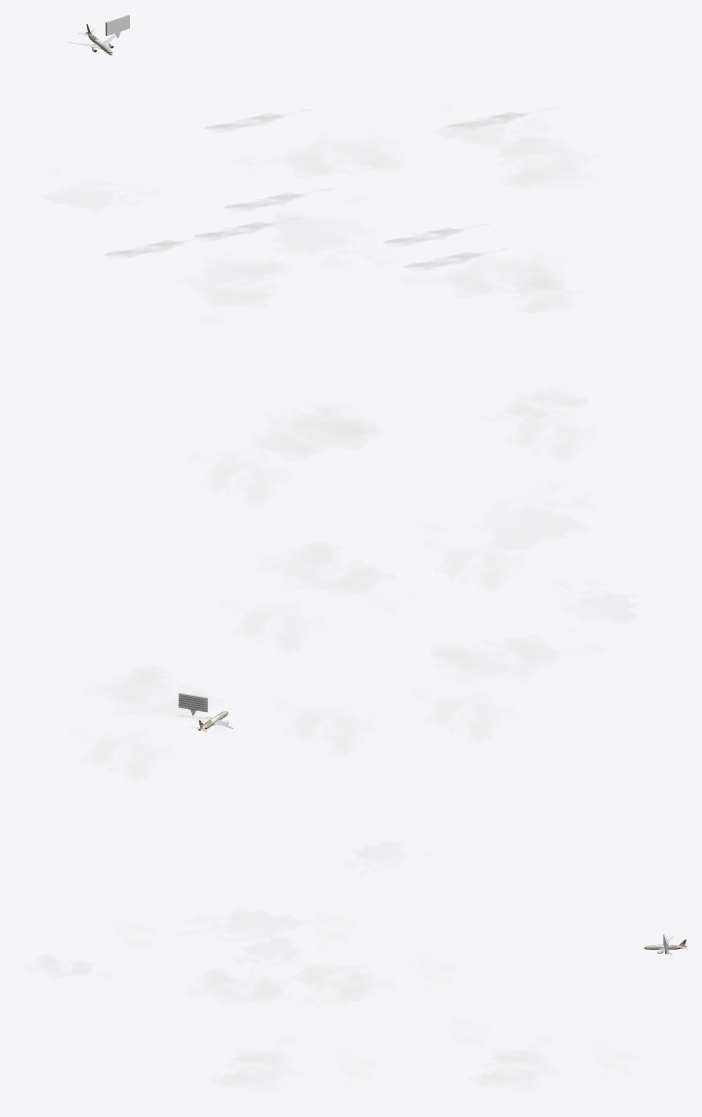
Rendered from Fly001.glb.
3 renders of one model, top to bottom at view 1: azimuth 30°, elevation 25°; view 2: azimuth 150°, elevation 25°; view 3: azimuth 270°, elevation 25°, orthographic. The views are drawn at different scales.
Visible parts, largest first — view 1: cloud_09, cloud_07, cloud_03, cloud_04, cloud_06, cloud_05, cloud_010, cloud_01, cloud_02, cloud_014, cloud_011, cloud_013 (+3 smaller); view 2: cloud_04, cloud_07, cloud_03, cloud_06, cloud_09, cloud_012, cloud_013, cloud_015, cloud_02, cloud_014, cloud_08, cloud_011 (+3 smaller); view 3: cloud_09, cloud_04, cloud_03, cloud_07, cloud_06, cloud_05, cloud_010, cloud_01, cloud_08, cloud_014, cloud_015, cloud_02 (+3 smaller).
Boxes of the visible parts, box(x1,y1,x2,y2) form: cloud_09: box(235, 135, 404, 178); cloud_07: box(183, 256, 290, 325); cloud_03: box(493, 117, 592, 188); cloud_04: box(397, 254, 566, 297); cloud_06: box(268, 201, 386, 266); cloud_05: box(434, 110, 547, 147); cloud_010: box(43, 175, 155, 212); cloud_01: box(512, 268, 577, 313); cloud_02: box(403, 248, 508, 269); cloud_014: box(105, 236, 209, 257); cloud_011: box(224, 189, 328, 210); cloud_013: box(205, 110, 309, 131); cloud_04: box(260, 542, 396, 610); cloud_07: box(430, 634, 609, 683); cloud_03: box(216, 405, 381, 461); cloud_06: box(439, 482, 596, 550); cloud_09: box(89, 666, 226, 734); cloud_012: box(222, 600, 321, 654); cloud_013: box(70, 728, 169, 782); cloud_015: box(189, 453, 288, 507); cloud_02: box(496, 411, 595, 464); cloud_014: box(412, 689, 511, 743); cloud_08: box(274, 702, 374, 755); cloud_011: box(423, 539, 522, 592); cloud_09: box(469, 1036, 556, 1090); cloud_04: box(212, 1038, 299, 1090); cloud_03: box(188, 968, 315, 1005); cloud_07: box(286, 956, 391, 1001); cloud_06: box(178, 907, 304, 947); cloud_05: box(234, 937, 318, 971); cloud_010: box(343, 841, 428, 875); cloud_01: box(30, 954, 112, 978); cloud_08: box(441, 1015, 493, 1051); cloud_014: box(409, 954, 460, 990); cloud_015: box(305, 975, 356, 1011); cloud_02: box(108, 917, 159, 953).
Size of what is drawn, in the model's own units: 5.18 by 1.65 by 6.99.
Materials: 7 (4 with a texture image).
